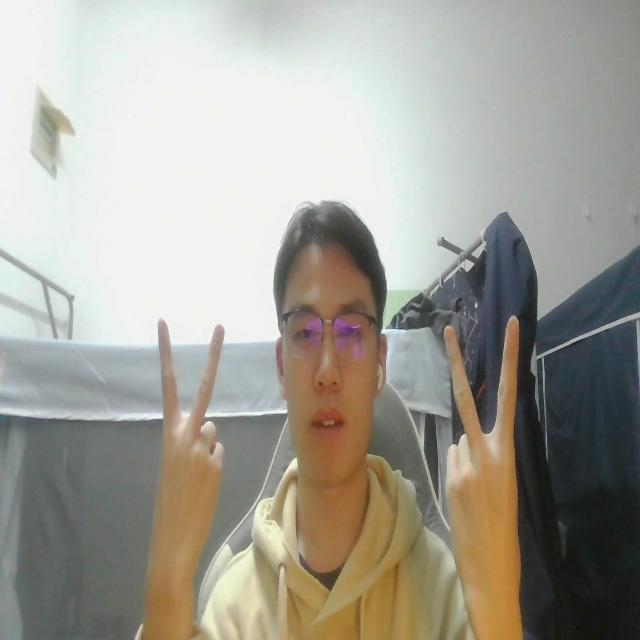yes: (441, 312, 532, 618), (148, 306, 228, 571)
